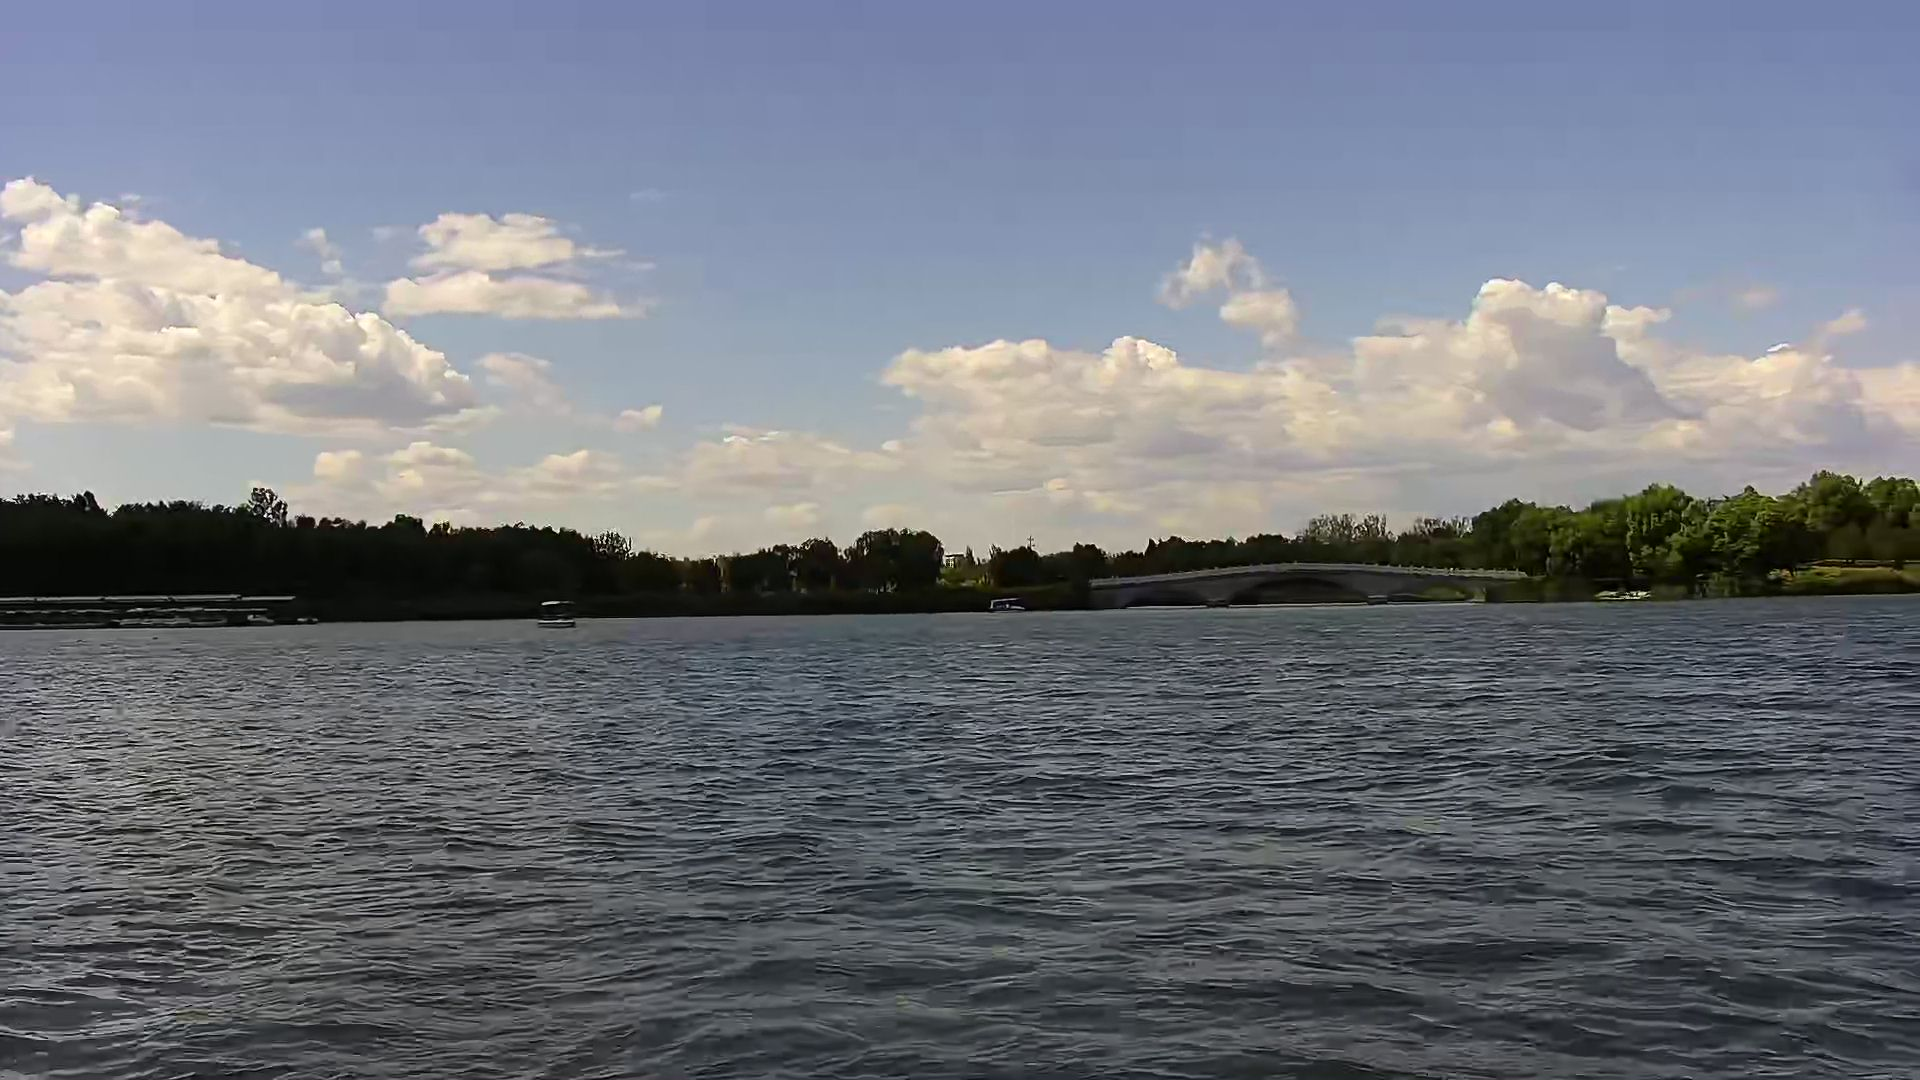boat: (534, 589, 583, 636)
bridge: (1080, 560, 1528, 608)
harbor: (1, 589, 309, 634)
